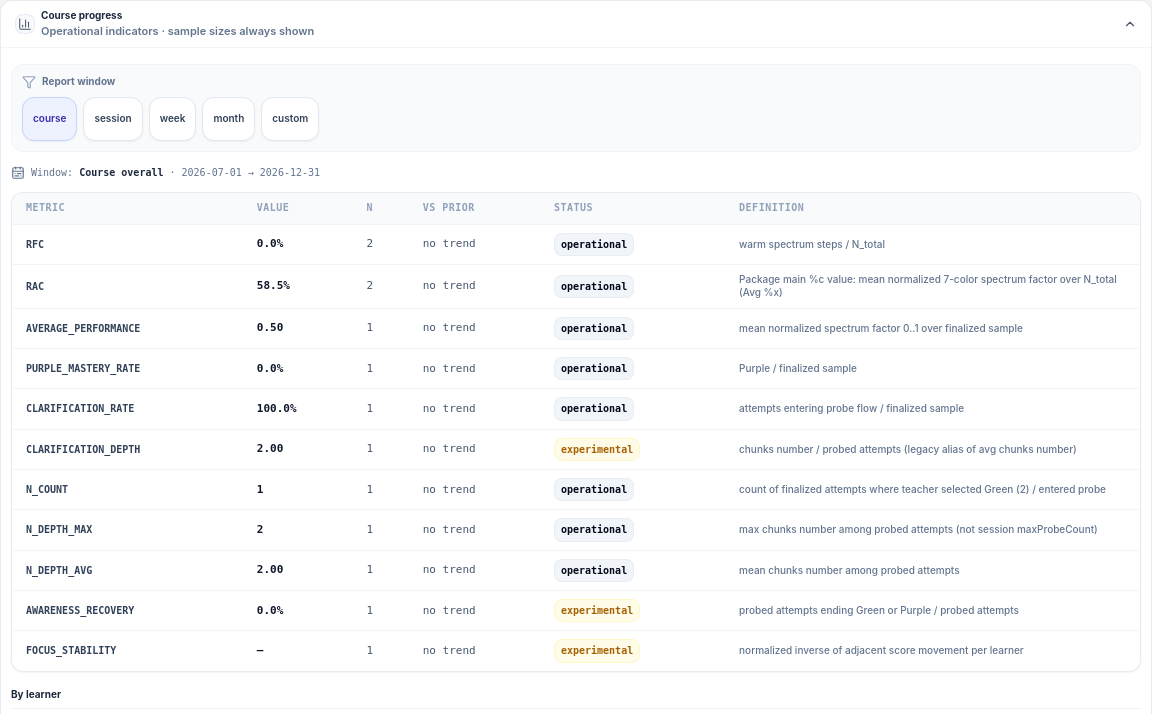
Test: ProgressReportPanel accessibility › exposes heading, window controls, and metric table semantics
The width and height of the screenshot is (1152, 714).
Expected: the heading "Course progress" is shown, [41,9,122,21]
Expected: the button with aria-label "Window kind" is shown, [22,97,319,141]
Click the button "custom". click: [290, 119]
box: [261,97,319,141]
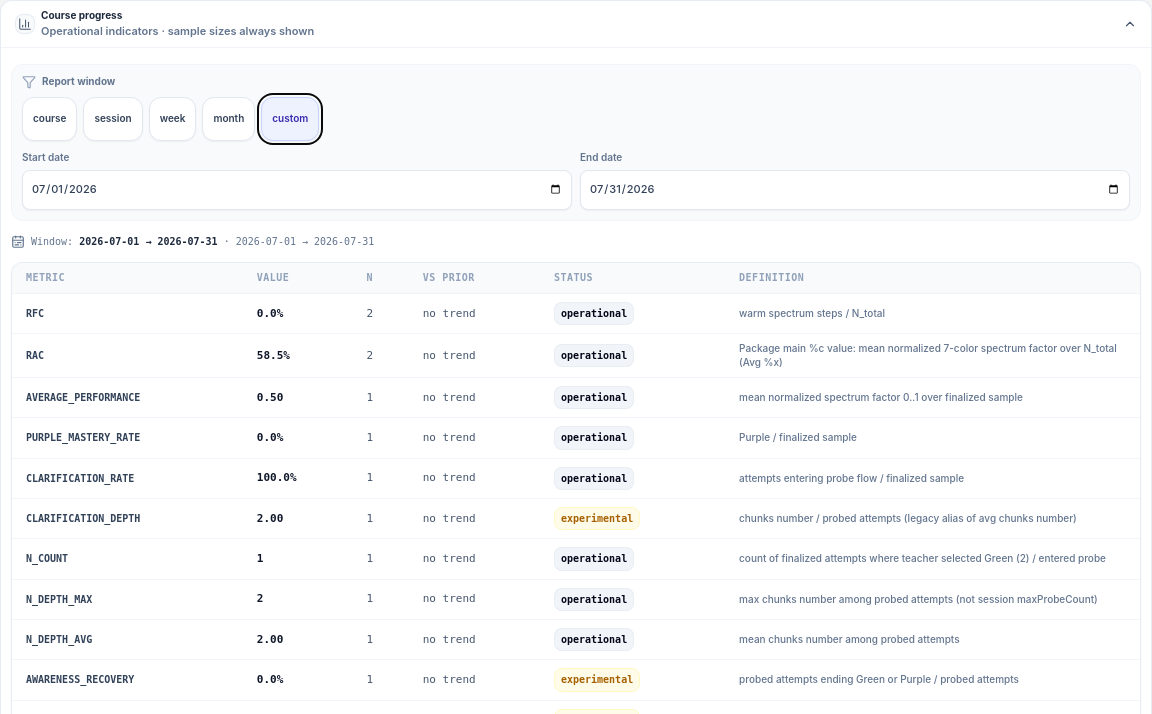
Expected: the date field labelled "Start date" is shown, [22,170,572,210]
Expected: the date field labelled "End date" is shown, [580,170,1130,210]
